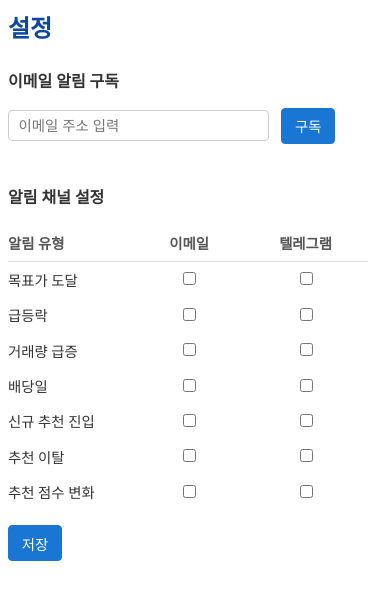
Scenario: Settings 페이지 › 네트워크 오류 시 일반 에러 메시지 표시
In the field labelled "이메일 주소 입력": coordinates (139, 126) [8,110,269,141], type "test@example.com"
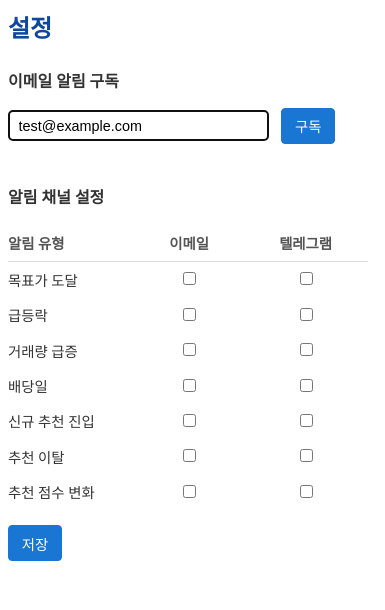
Click the button "구독": coordinates (308, 126) [281,108,335,144]
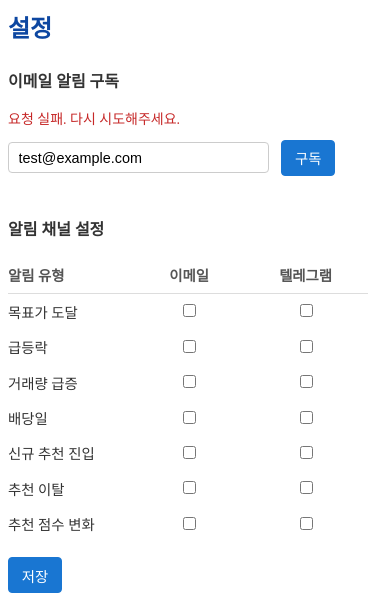
Now the message reads "요청 실패. 다시 시도해주세요.", box [8,112,180,127]
